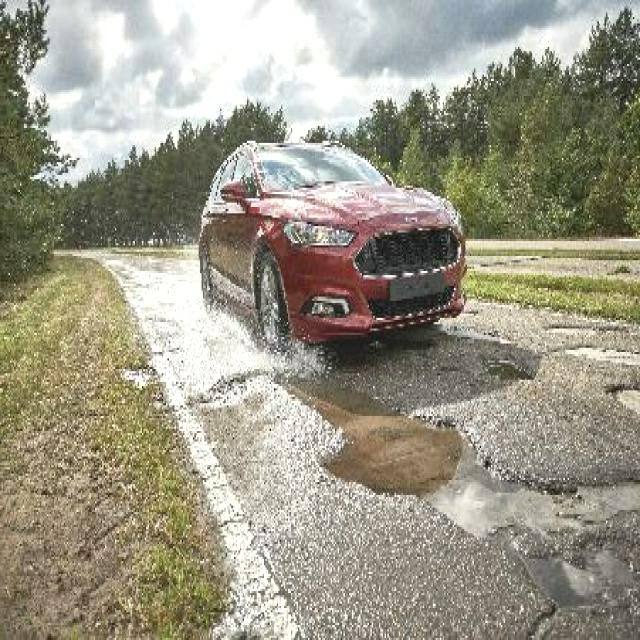Pothole: (322, 412, 497, 499), (563, 341, 640, 367), (482, 354, 536, 380), (605, 380, 640, 414)
